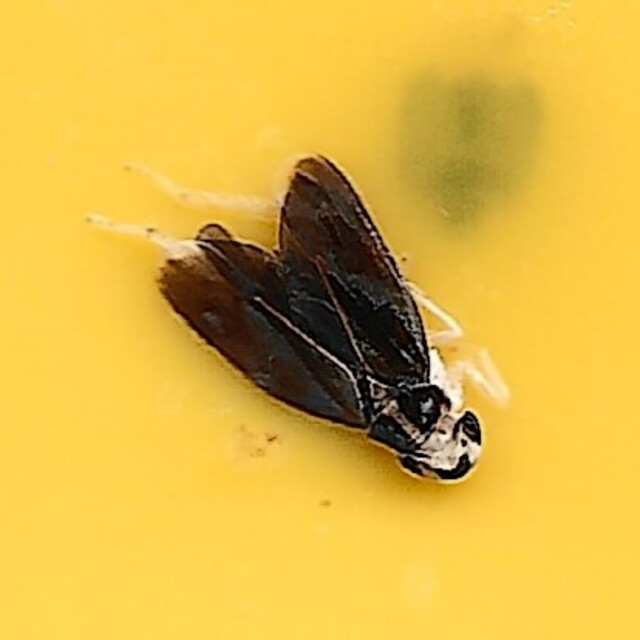Hemiptera: (155, 155, 485, 485)
